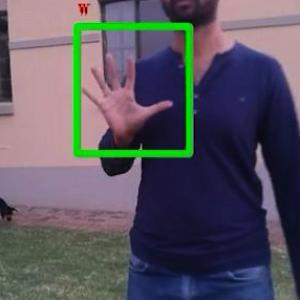follow_hand: (77, 47, 175, 142)
